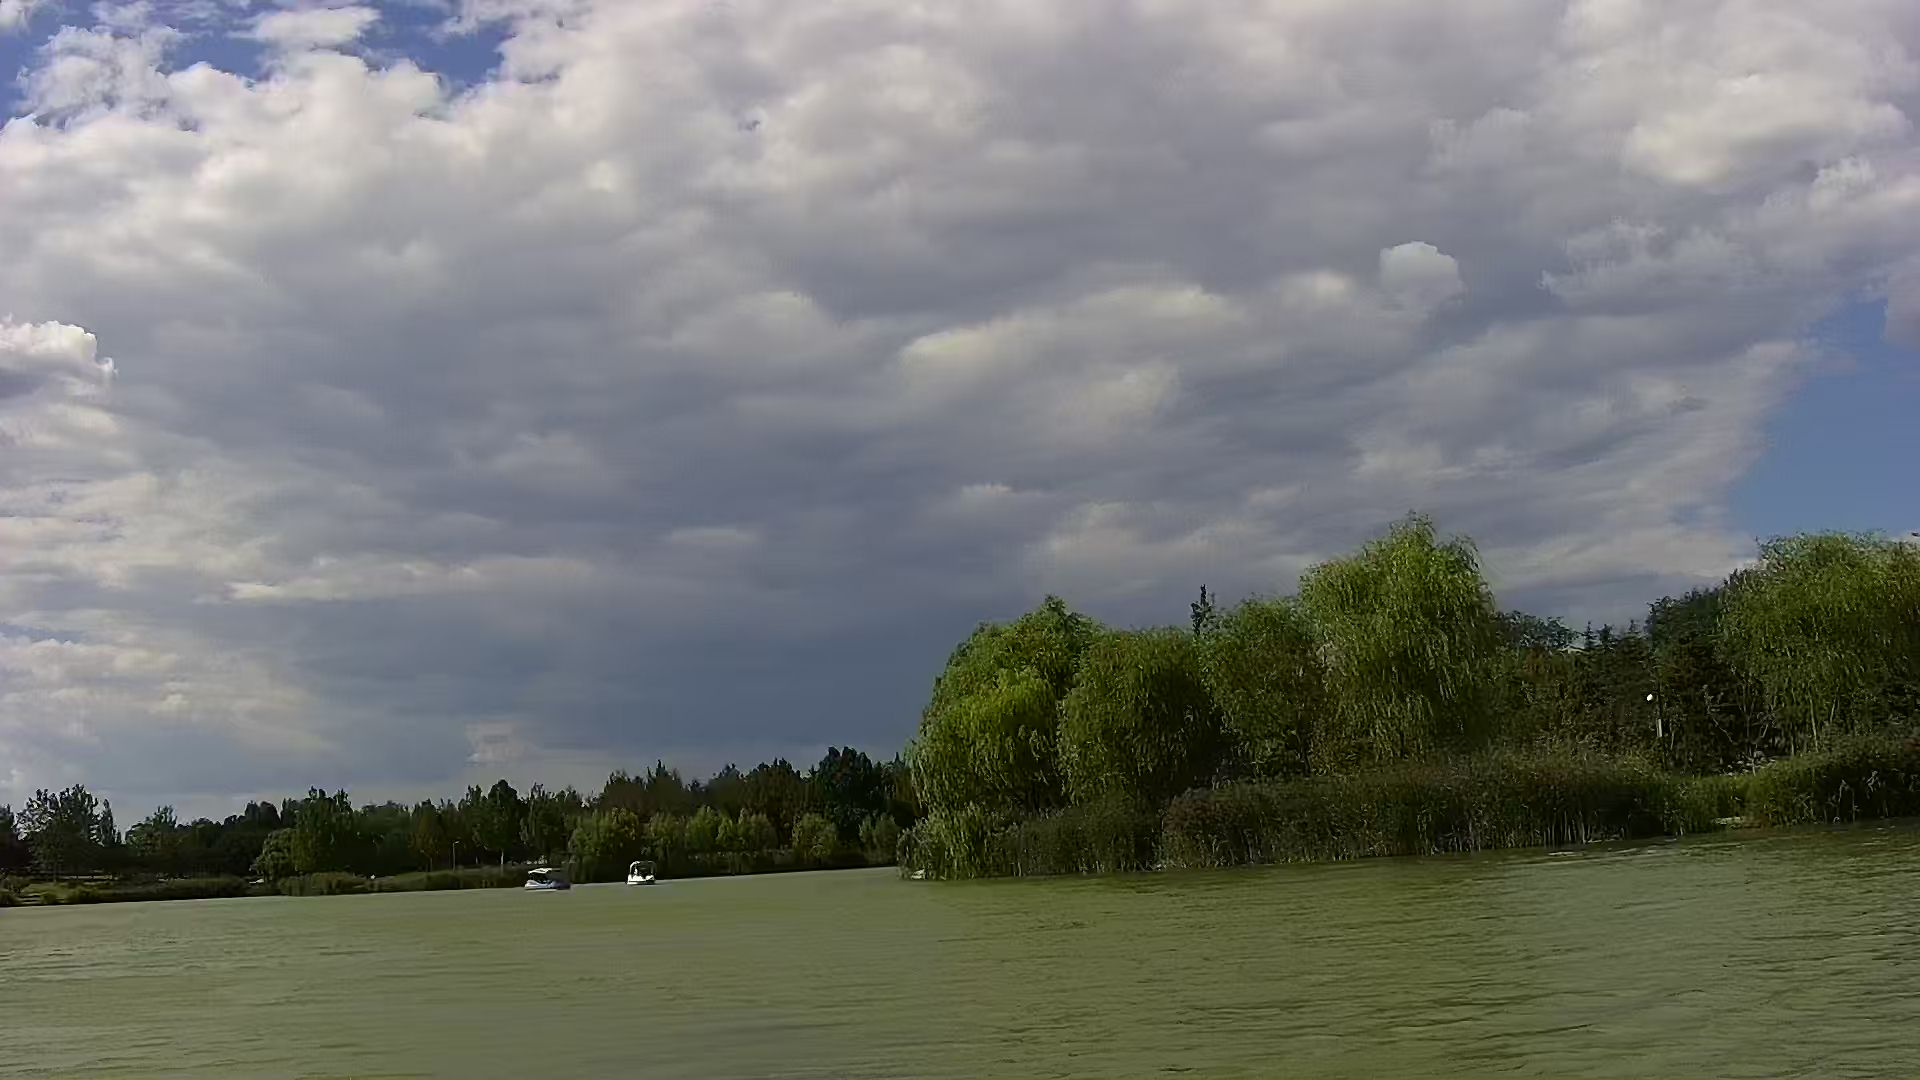boat: (524, 862, 574, 894), (622, 858, 663, 891)
